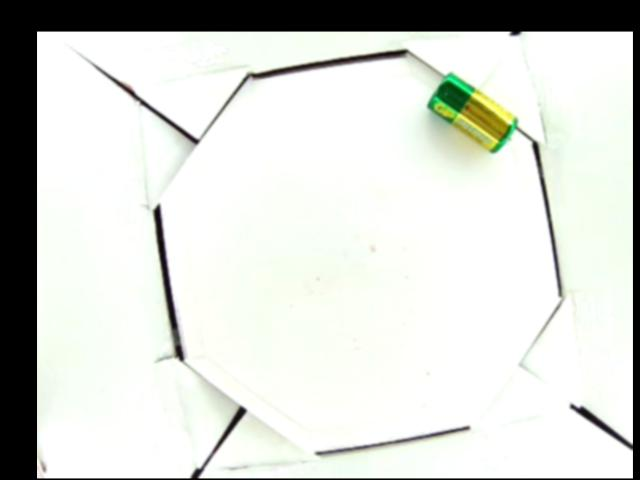Battery: (424, 71, 519, 154)
